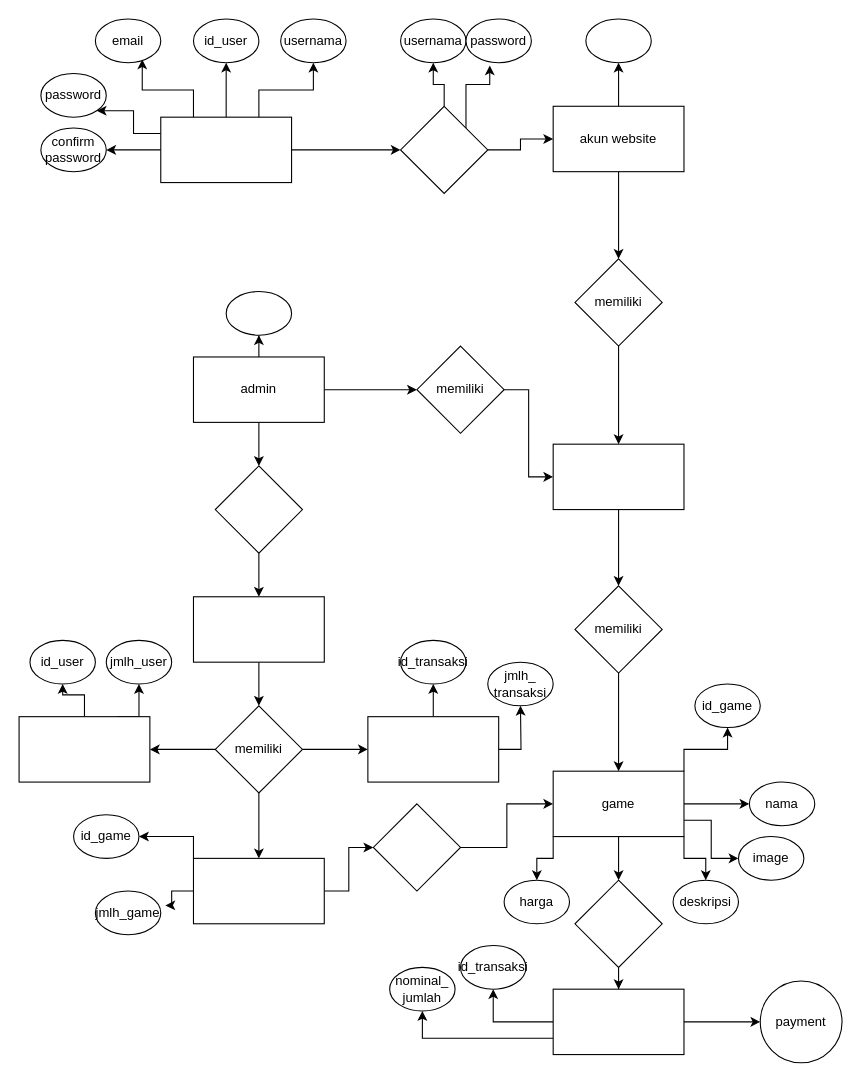
This 861x1082 diagram has some shape labels left out. The shapes that lost their labels are listed below. From the top down, each one's centre as x and y in pixels, then its label:
pixel 618 40: id akun
pixel 226 149: User
pixel 443 149: registrasi atau login
pixel 258 312: id_admin
pixel 618 476: website
pixel 258 509: memanagement
pixel 258 629: dashboard (website admin)
pixel 84 749: data user
pixel 433 749: data transaksi
pixel 416 847: menambahkan
pixel 258 890: data games
pixel 618 923: dibeli user/ transaksi
pixel 618 1021: transaksi
